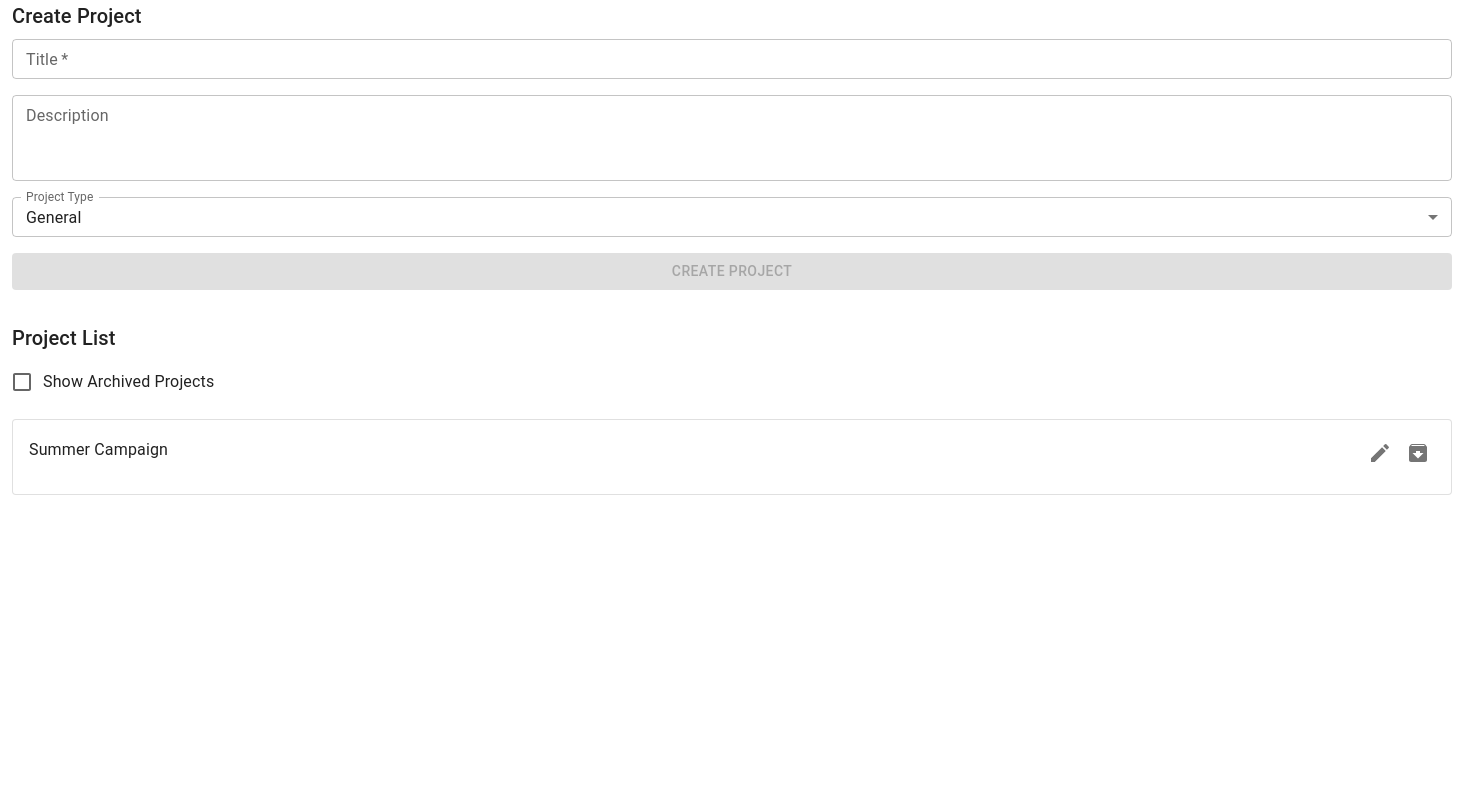
Test: ProjectsSection › Archive error handling › displays generic error message when API error has no details
Expected: the heading "Summer Campaign" is shown, top-left (29, 436), bottom-right (168, 464)
Note: Click archive button
Click the button named "archive": (1418, 452) top-left (1401, 436), bottom-right (1435, 470)
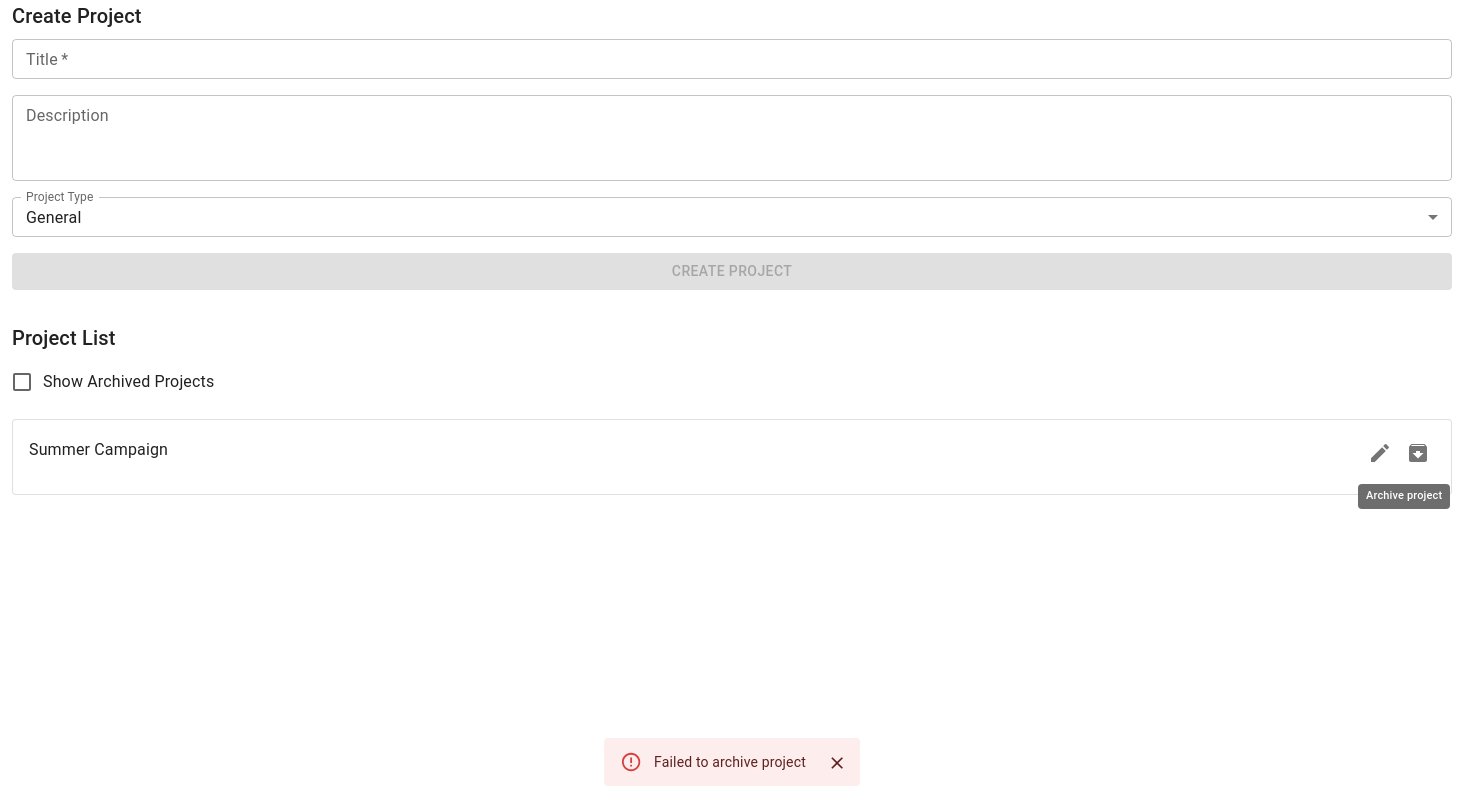
Now the text "Failed to archive project" is shown, box top-left (654, 754), bottom-right (806, 770)
